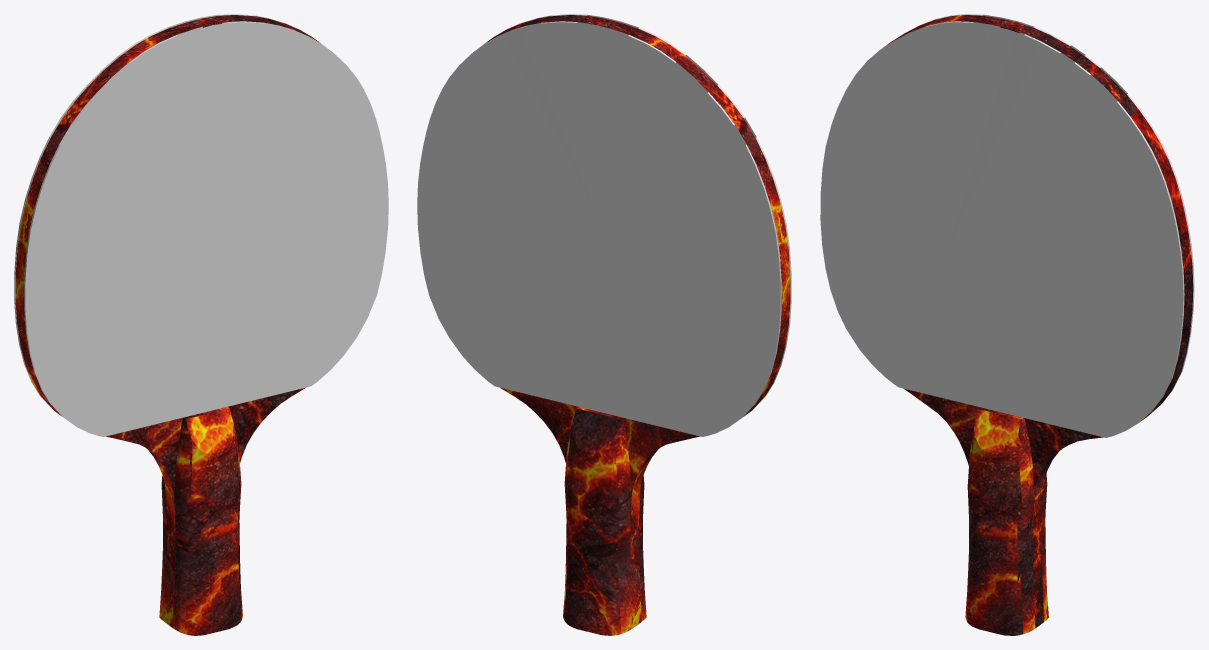
File: Paleta_Lava.fbx
3 views of the same model, side by side, from view 1: azimuth 30°, elevation 25°; view 2: azimuth 150°, elevation 25°; view 3: azimuth 330°, elevation 25° (orthographic).
Visible parts, largest first — view 1: Plastic clasic, Line032; view 2: Plastic clasic, Line032; view 3: Plastic clasic, Line032.
Boxes of the visible parts, x1,y1,x2,y2 form: Plastic clasic: [14, 14, 388, 436]; Line032: [15, 15, 319, 635]; Plastic clasic: [417, 14, 791, 436]; Line032: [486, 15, 790, 635]; Plastic clasic: [820, 14, 1194, 437]; Line032: [883, 15, 1193, 635].
Size of the model in its own units: 14.7 by 23.11 by 2.21.
Materials: 2 (1 with a texture image).
